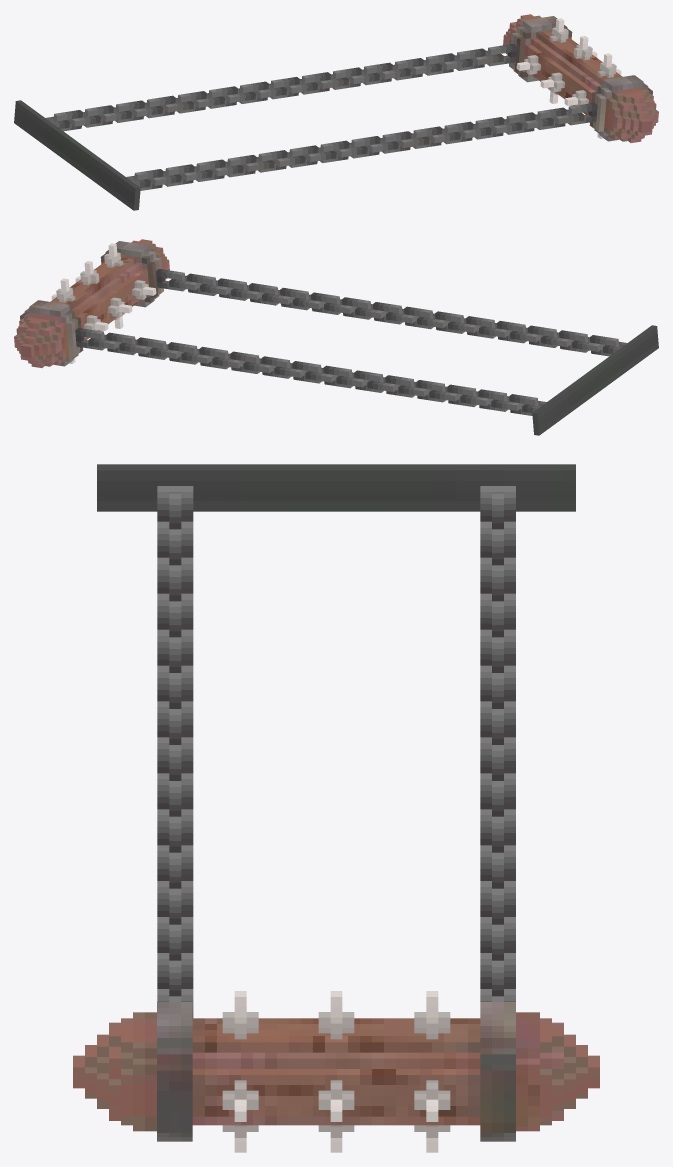
The model's file is trap-16.glb.
The picture shows the model from 3 angles, top to bottom: view 1: azimuth 30°, elevation 25°; view 2: azimuth 150°, elevation 25°; view 3: azimuth 270°, elevation 25°; orthographic projection. The views are drawn at different scales.
Visible parts, largest first — view 1: base16-Local; view 2: base16-Local; view 3: base16-Local.
Part boxes in pixels (x1=…): base16-Local: x1=14, y1=14, x2=658, y2=210; base16-Local: x1=14, y1=239, x2=658, y2=435; base16-Local: x1=73, y1=464, x2=599, y2=1152.
Size of the model in its own units: 2.39 by 0.4102 by 1.
4 materials, 4 textured.
